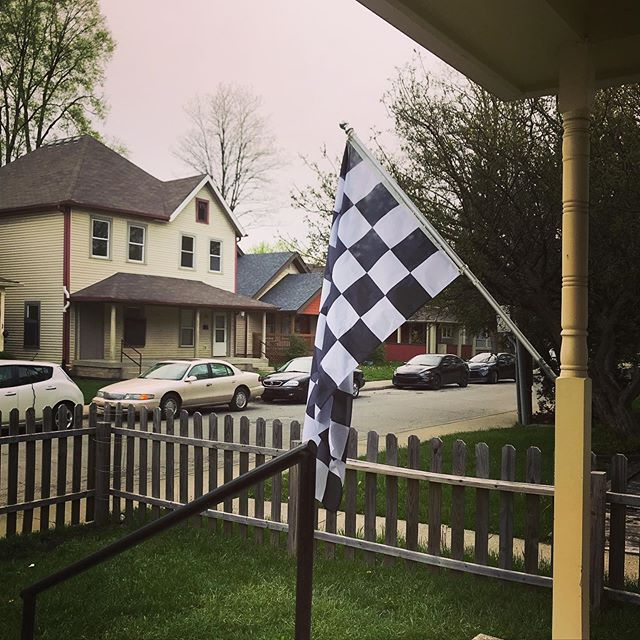building: (1, 137, 272, 371)
car: (98, 341, 271, 427), (266, 346, 370, 401)
flag: (298, 120, 496, 542)
sky: (116, 1, 475, 205)
tree: (392, 83, 640, 431), (416, 97, 640, 450), (1, 1, 121, 142)
